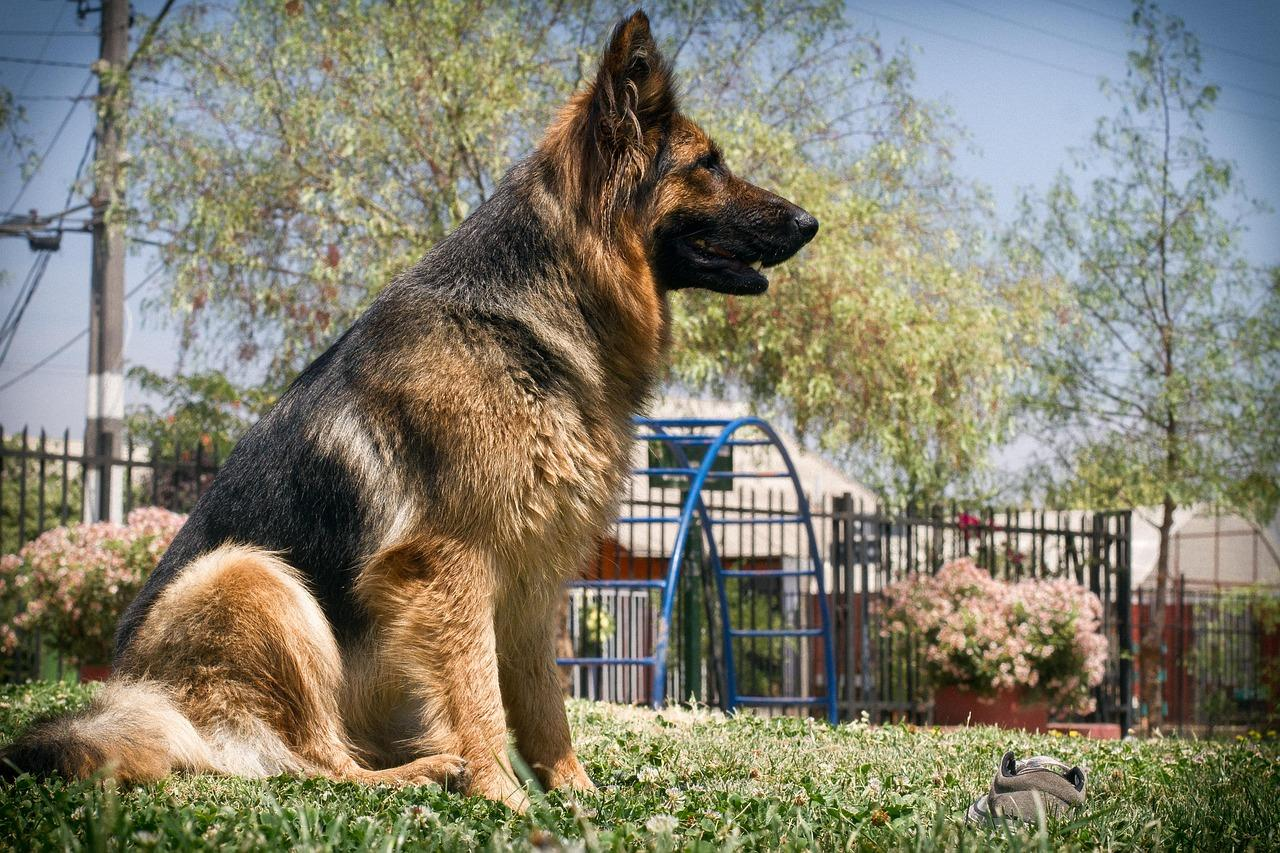german_shepherd: (546, 27, 840, 348)
